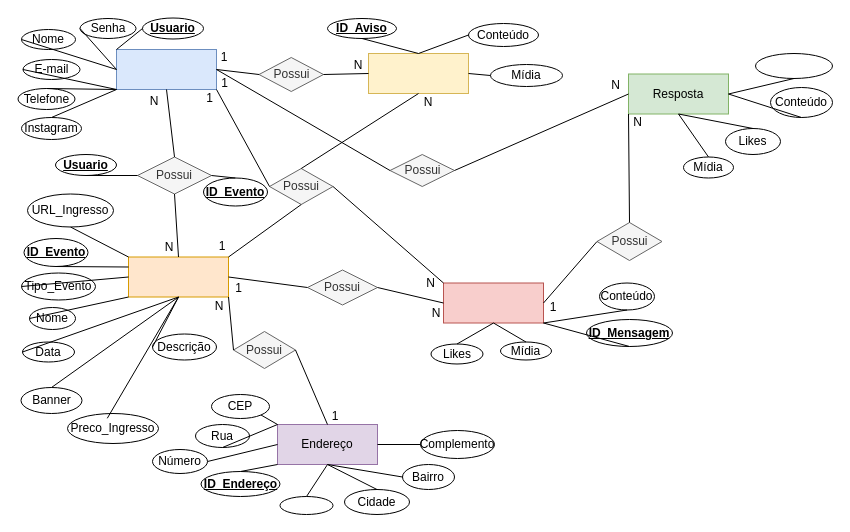
The diagram is 850 pixels wide and 532 high, and some of its shapes have lost their labels. Here are the shapes that lost their labels. From the top down, the centre of each, then its label:
the point at 166,69: Cliente
the point at 418,73: Aviso
the point at 793,65: ID_Resposta
the point at 178,276: Evento
the point at 493,302: Mensagem
the point at 306,505: UF
